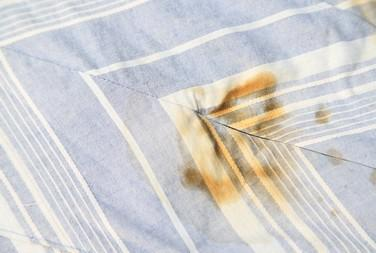gun: (174, 74, 314, 197)
